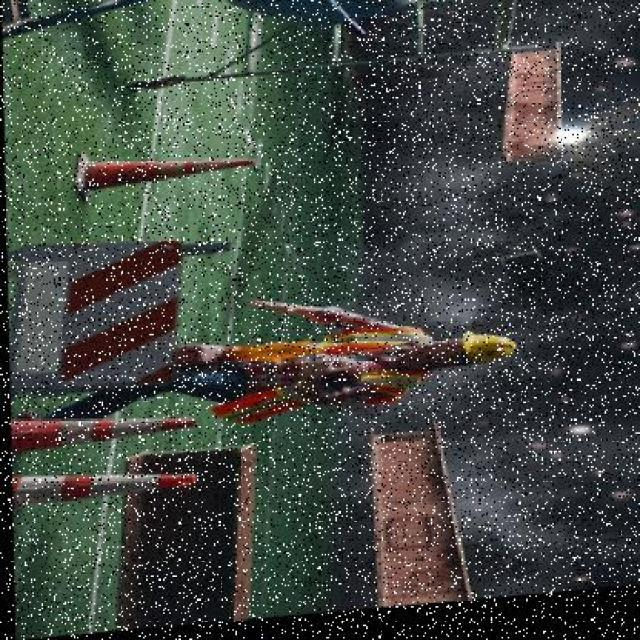helmet: (457, 335, 516, 377)
vest: (211, 334, 426, 426)
